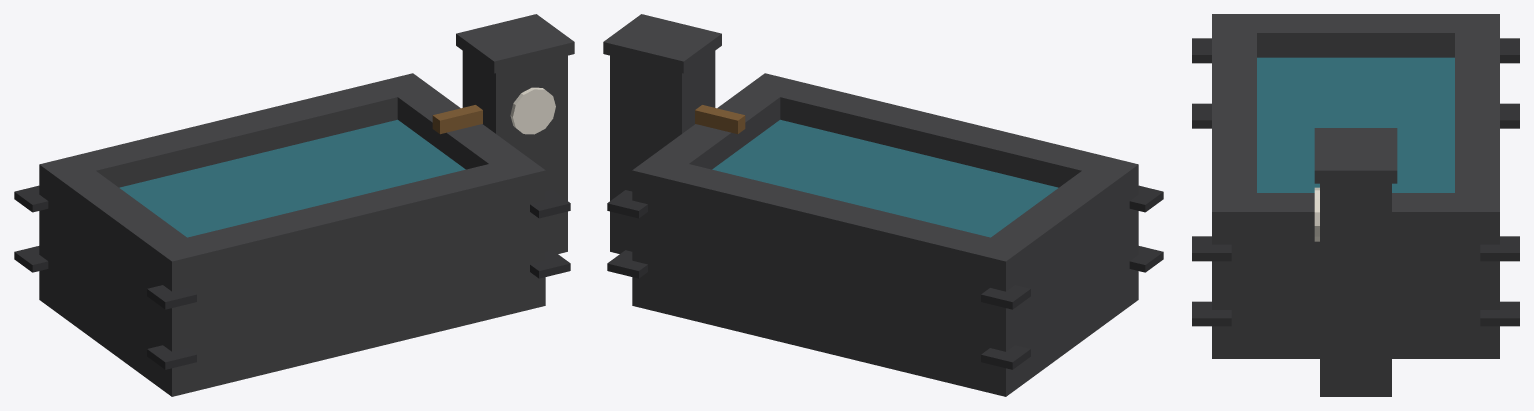
The model's file is rome_lacus.glb.
The picture shows the model from 3 angles, left to right: view 1: azimuth 30°, elevation 25°; view 2: azimuth 150°, elevation 25°; view 3: azimuth 270°, elevation 25°; orthographic projection. The views are drawn at different scales.
Visible parts, largest first — view 1: rome_lacus; view 2: rome_lacus; view 3: rome_lacus.
Boxes of the visible parts, bbox=[...] form: rome_lacus: bbox=[14, 14, 574, 396]; rome_lacus: bbox=[603, 14, 1163, 396]; rome_lacus: bbox=[1192, 14, 1519, 396].
Bounding box in the file's own units: 3.24 × 1.4 × 1.82.
